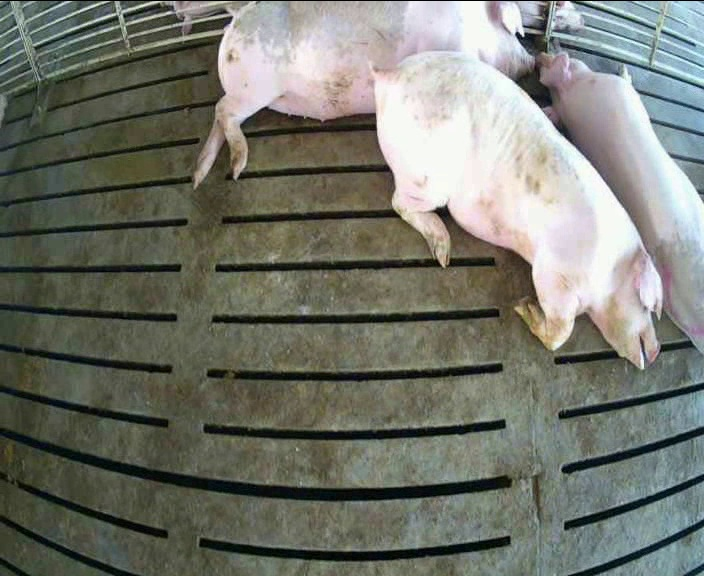pig: (375, 52, 661, 368), (194, 2, 533, 188), (537, 52, 703, 353)
